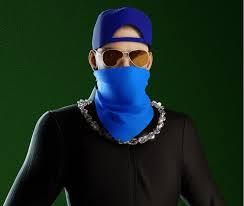cap: (89, 4, 158, 49)
scarf-kerchief: (92, 63, 157, 142)
sunglasses: (97, 43, 151, 75)
